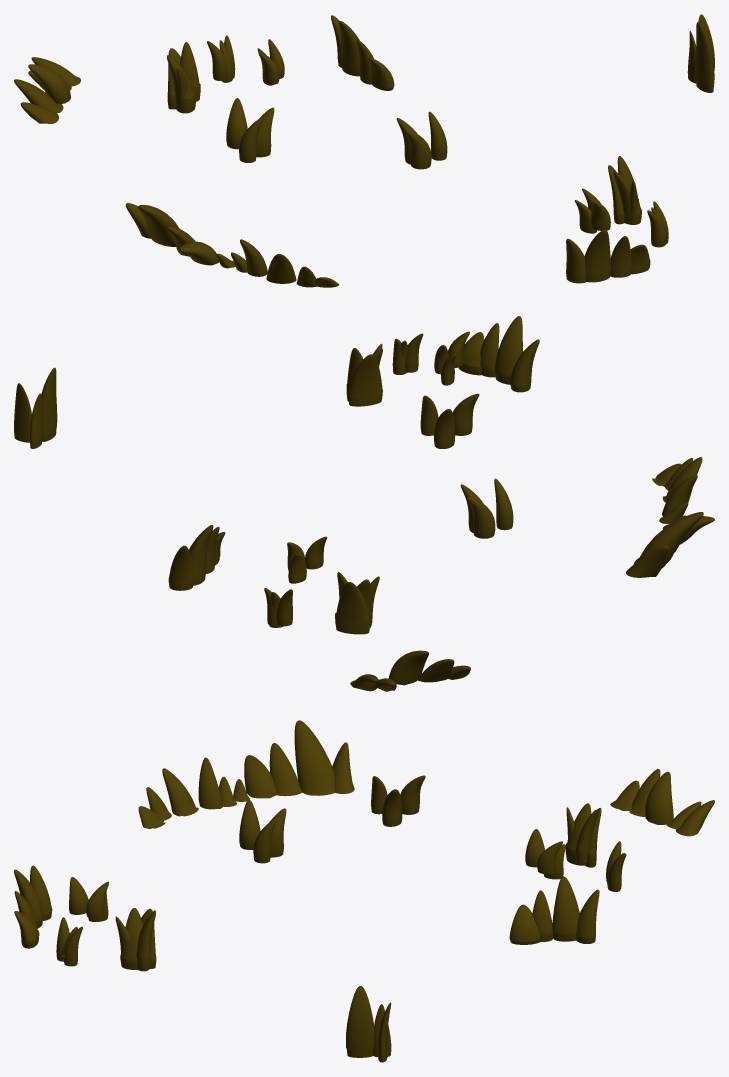
File: GrassModels.obj
3 renders of one model, top to bottom at view 1: azimuth 30°, elevation 25°; view 2: azimuth 150°, elevation 25°; view 3: azimuth 270°, elevation 25°, orthographic. The views are drawn at different scales.
Parts seen in each view (by area): view 1: Grass GrassGroup5 GrassBlade6, GrassBlade1 GrassGroup1 Grass, Grass GrassGroup7 GrassBlade13, Grass GrassGroup8 GrassBlade17, Grass GrassGroup12 GrassBlade6, Grass pasted__GrassGroup2 GrassGroup13 pasted__GrassBlade6, Grass GrassGroup5 GrassBlade5, Grass GrassBlade4 GrassGroup5, Grass GrassGroup9 GrassBlade6, Grass pasted__GrassGroup2 GrassGroup6 pasted__GrassBlade6, Grass GrassGroup8 GrassBlade16, Grass GrassGroup7 GrassBlade6 (+17 smaller); view 2: Grass GrassGroup9 GrassBlade5, Grass GrassGroup2 GrassBlade5, Grass GrassGroup5 GrassBlade6, Grass GrassGroup7 GrassBlade13, GrassBlade1 GrassGroup1 Grass, Grass GrassGroup8 GrassBlade17, Grass GrassGroup12 GrassBlade5, Grass GrassGroup5 GrassBlade5, Grass GrassGroup7 GrassBlade12, GrassGroup1 Grass GrassBlade3, Grass GrassGroup12 GrassBlade6, Grass pasted__GrassGroup2 GrassGroup13 pasted__GrassBlade6 (+7 smaller); view 3: Grass GrassGroup7 GrassBlade13, GrassBlade1 GrassGroup1 Grass, Grass GrassGroup12 GrassBlade6, Grass GrassGroup8 GrassBlade17, Grass GrassGroup7 GrassBlade11, Grass GrassGroup7 GrassBlade14, Grass GrassGroup7 GrassBlade6, Grass GrassGroup12 GrassBlade7, Grass GrassGroup7 GrassBlade8, Grass GrassGroup2 GrassBlade6, Grass GrassGroup12 GrassBlade5, Grass GrassGroup7 GrassBlade12 (+15 smaller).
Part boxes in pixels (box(x1,y1,x2,y2)): Grass GrassGroup5 GrassBlade6: box(584, 229, 611, 282); GrassBlade1 GrassGroup1 Grass: box(695, 22, 714, 92); Grass GrassGroup7 GrassBlade13: box(138, 205, 179, 246); Grass GrassGroup8 GrassBlade17: box(28, 64, 70, 103); Grass GrassGroup12 GrassBlade6: box(339, 21, 359, 76); Grass pasted__GrassGroup2 GrassGroup13 pasted__GrassBlade6: box(226, 98, 247, 149); Grass GrassGroup5 GrassBlade5: box(566, 238, 586, 283); Grass GrassBlade4 GrassGroup5: box(610, 236, 631, 277); Grass GrassGroup9 GrassBlade6: box(167, 55, 196, 113); Grass pasted__GrassGroup2 GrassGroup6 pasted__GrassBlade6: box(405, 129, 431, 169); Grass GrassGroup8 GrassBlade16: box(14, 79, 63, 112); Grass GrassGroup7 GrassBlade6: box(266, 254, 296, 283); Grass GrassGroup9 GrassBlade5: box(335, 582, 370, 634); Grass GrassGroup2 GrassBlade5: box(348, 354, 382, 406); Grass GrassGroup5 GrassBlade6: box(494, 316, 522, 384); Grass GrassGroup7 GrassBlade13: box(634, 512, 703, 568); GrassBlade1 GrassGroup1 Grass: box(41, 367, 57, 441); Grass GrassGroup8 GrassBlade17: box(388, 650, 428, 685); Grass GrassGroup12 GrassBlade5: box(168, 545, 193, 590); Grass GrassGroup5 GrassBlade5: box(510, 339, 539, 392); Grass GrassGroup7 GrassBlade12: box(626, 545, 668, 577); GrassGroup1 Grass GrassBlade3: box(14, 383, 31, 442); Grass GrassGroup12 GrassBlade6: box(189, 525, 213, 585); Grass pasted__GrassGroup2 GrassGroup13 pasted__GrassBlade6: box(467, 496, 495, 538); Grass GrassGroup7 GrassBlade13: box(294, 720, 335, 795); GrassBlade1 GrassGroup1 Grass: box(346, 986, 374, 1057); Grass GrassGroup12 GrassBlade6: box(552, 876, 579, 941); Grass GrassGroup8 GrassBlade17: box(645, 771, 673, 824); Grass GrassGroup7 GrassBlade11: box(269, 743, 301, 796); Grass GrassGroup7 GrassBlade14: box(244, 755, 276, 798); Grass GrassGroup7 GrassBlade6: box(162, 768, 198, 816); Grass GrassGroup12 GrassBlade7: box(509, 904, 540, 944); Grass GrassGroup7 GrassBlade8: box(198, 757, 222, 809); Grass GrassGroup2 GrassBlade6: box(120, 908, 142, 969); Grass GrassGroup12 GrassBlade5: box(576, 889, 599, 943); Grass GrassGroup7 GrassBlade12: box(332, 742, 354, 793).
Size of the model in its own units: 2.75 by 0.3742 by 2.75.
